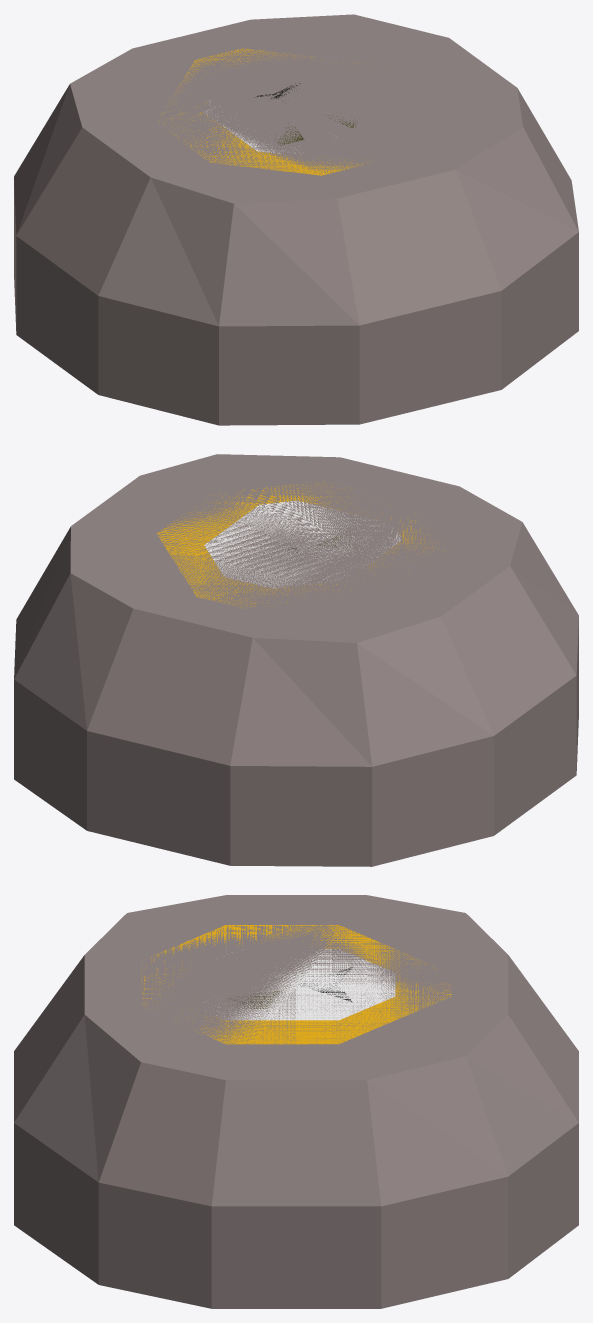
File: inv_chaos_rune.obj
3 renders of one model, top to bottom at view 1: azimuth 30°, elevation 25°; view 2: azimuth 150°, elevation 25°; view 3: azimuth 270°, elevation 25°, orthographic. The views are drawn at different scales.
Bounding box in the file's own units: 0.3125 × 0.125 × 0.3125.
